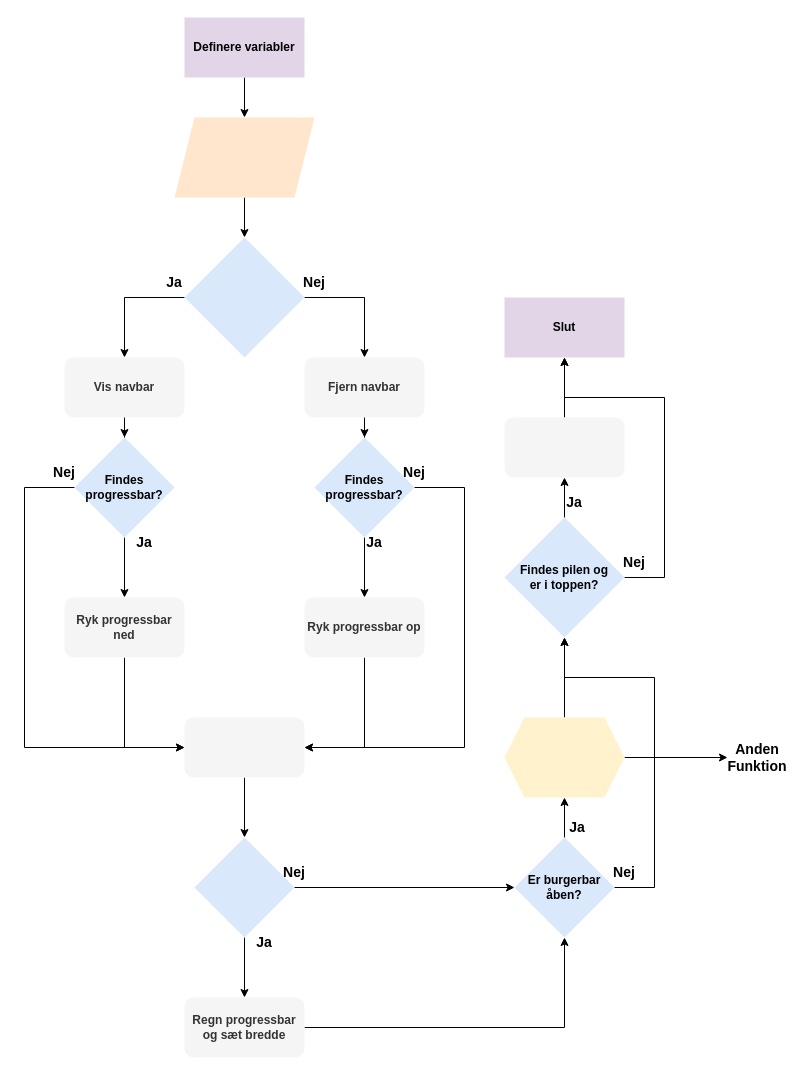
The diagram is 805 pixels wide and 1074 high, and some of its shapes have lost their labels. The shapes that lost their labels are listed below. From the top down, each one's box as (x1, y1, x2, y2) in pixels, then its label:
(174, 117, 314, 197): On event scroll -> kør funktion
(184, 237, 304, 357): scroll up? eller i toppen?
(504, 417, 624, 477): Gør Pil usyndelig
(184, 717, 304, 777): Gem nuværrende scroll
(504, 717, 624, 797): kald funktion: chance_navbar() (Luk navbar)
(194, 837, 294, 937): Findes progressbar
